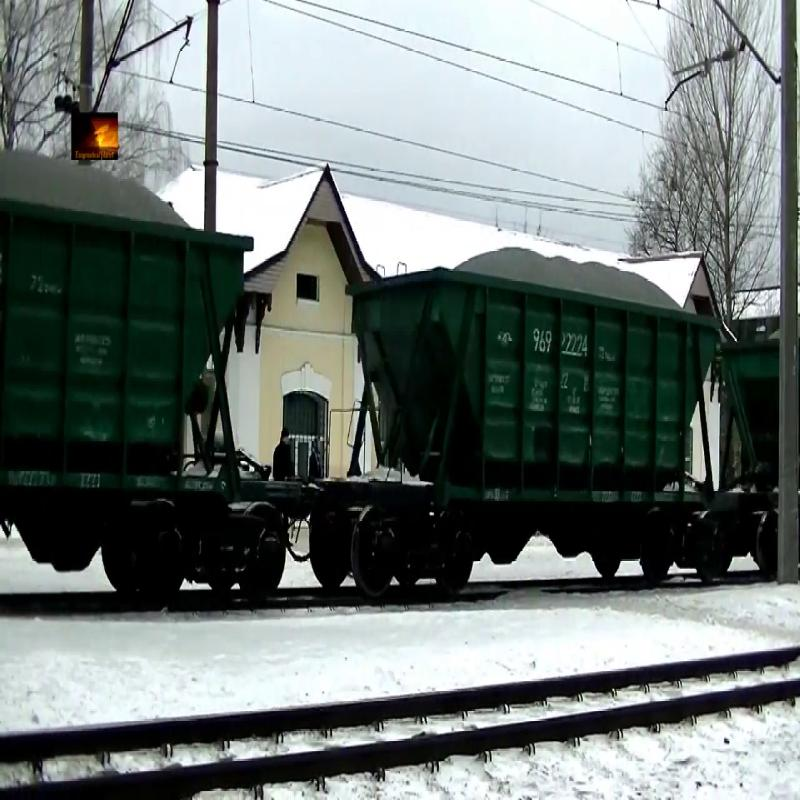train: (338, 228, 722, 608), (1, 145, 279, 590)
